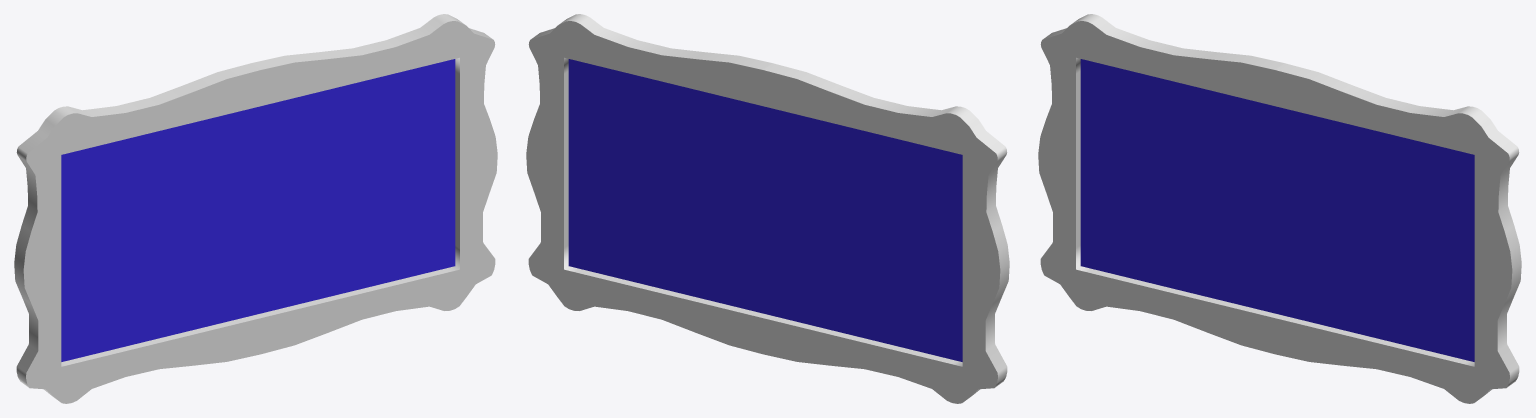
The model's file is Painting_Horizontal.fbx.
The picture shows the model from 3 angles, left to right: view 1: azimuth 30°, elevation 25°; view 2: azimuth 150°, elevation 25°; view 3: azimuth 330°, elevation 25°; orthographic projection.
Visible parts, largest first — view 1: Painting_Horizontal; view 2: Painting_Horizontal; view 3: Painting_Horizontal.
Boxes of the visible parts, x1,y1,x2,y2 form: Painting_Horizontal: (14,14,497,403); Painting_Horizontal: (526,14,1009,403); Painting_Horizontal: (1038,14,1521,403).
Size of the model in its own units: 439 by 256 by 15.13.
